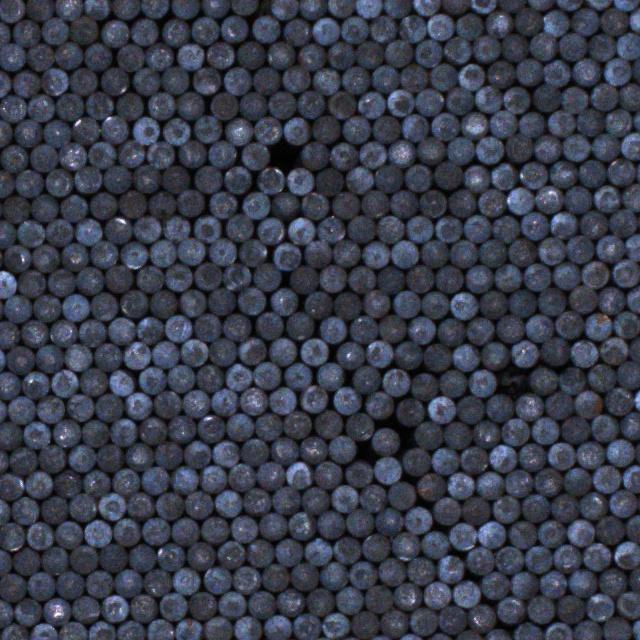tool: (255, 460, 284, 490), (288, 265, 317, 294), (422, 342, 451, 371), (14, 169, 43, 197), (345, 165, 373, 194), (534, 184, 562, 213), (578, 210, 606, 239), (434, 264, 463, 292), (495, 314, 524, 342), (485, 393, 513, 422), (402, 447, 430, 475), (63, 343, 91, 371), (14, 598, 42, 626), (12, 19, 40, 47), (599, 8, 627, 36), (355, 40, 383, 68), (558, 32, 586, 60), (571, 58, 599, 86), (296, 90, 324, 118), (327, 91, 355, 119), (414, 88, 442, 116), (42, 120, 70, 148), (162, 117, 190, 145), (224, 117, 252, 145), (311, 115, 339, 143), (342, 115, 370, 143), (430, 112, 458, 140), (576, 108, 604, 136), (58, 142, 86, 170), (87, 141, 115, 169), (44, 168, 72, 196), (240, 142, 268, 170), (416, 136, 444, 164), (532, 134, 560, 162), (132, 164, 160, 192), (477, 188, 505, 216), (16, 219, 44, 247), (44, 218, 72, 246), (193, 215, 221, 243), (462, 214, 490, 242), (478, 238, 506, 266), (508, 238, 536, 266), (595, 234, 623, 262), (580, 260, 608, 288), (405, 264, 433, 292), (318, 264, 346, 292), (164, 314, 192, 342), (222, 313, 250, 341), (568, 285, 596, 313), (208, 337, 236, 365), (268, 337, 296, 365), (480, 341, 508, 369), (529, 366, 557, 394), (410, 372, 438, 400), (427, 395, 455, 423), (456, 396, 484, 424), (590, 413, 618, 441), (138, 366, 166, 394), (238, 387, 266, 415), (210, 388, 238, 416), (7, 396, 35, 424), (443, 421, 471, 449), (240, 438, 268, 466), (140, 466, 168, 494), (198, 465, 226, 493), (608, 489, 636, 517), (552, 544, 580, 572), (582, 542, 610, 570), (184, 490, 212, 518), (316, 510, 344, 538), (538, 570, 566, 598), (84, 42, 111, 71), (145, 42, 172, 71), (223, 66, 250, 95), (85, 90, 112, 119), (253, 115, 280, 144), (271, 192, 298, 221), (390, 189, 417, 218), (609, 208, 636, 237), (75, 266, 102, 295), (193, 312, 220, 341), (437, 317, 464, 346), (604, 387, 633, 414), (182, 389, 209, 418), (95, 393, 122, 422), (41, 495, 68, 524), (228, 462, 255, 491), (129, 593, 156, 622), (217, 591, 246, 618), (480, 571, 509, 598), (392, 582, 421, 609), (613, 541, 640, 569), (35, 344, 62, 372), (94, 343, 121, 371), (79, 368, 107, 395), (51, 369, 78, 397), (27, 572, 54, 600), (26, 43, 53, 71), (54, 42, 82, 69), (570, 8, 598, 35), (444, 36, 471, 64), (472, 34, 499, 62), (500, 34, 527, 62), (529, 32, 556, 60), (282, 65, 310, 92), (400, 64, 427, 92), (603, 58, 631, 85), (115, 92, 142, 120), (147, 91, 174, 119), (71, 116, 98, 144), (282, 116, 309, 144), (489, 110, 516, 138), (604, 108, 631, 136), (208, 140, 235, 168), (300, 141, 327, 169), (330, 142, 358, 169), (358, 141, 386, 168), (161, 165, 189, 192), (315, 167, 342, 195), (375, 164, 402, 192), (176, 188, 203, 216), (434, 161, 461, 189), (549, 160, 576, 188), (606, 158, 634, 185), (361, 189, 388, 217), (563, 186, 591, 213), (405, 214, 432, 242), (31, 244, 58, 272), (176, 237, 204, 264), (273, 242, 300, 270), (222, 263, 249, 291), (253, 262, 280, 290), (390, 240, 418, 267), (449, 239, 476, 267), (537, 236, 564, 264), (612, 259, 639, 287), (552, 262, 579, 290), (523, 263, 550, 291), (494, 263, 521, 291), (90, 292, 117, 320), (120, 289, 147, 317), (107, 317, 135, 344), (362, 289, 389, 317), (349, 314, 376, 342), (407, 316, 435, 343), (538, 287, 565, 315), (524, 314, 552, 341), (597, 286, 624, 314), (584, 312, 611, 340), (180, 338, 208, 365), (300, 338, 328, 365), (336, 341, 363, 369), (394, 341, 422, 368), (558, 366, 585, 394), (600, 336, 627, 364), (439, 369, 466, 397), (382, 368, 409, 396), (167, 364, 194, 392), (252, 362, 280, 389), (352, 365, 379, 393), (334, 386, 361, 414), (364, 391, 392, 418), (345, 412, 373, 439), (315, 410, 342, 438), (36, 394, 63, 422), (66, 393, 93, 421), (124, 391, 151, 419), (414, 421, 441, 449), (472, 420, 499, 448), (68, 444, 95, 472), (124, 442, 152, 469), (170, 466, 197, 494), (328, 435, 355, 463), (314, 461, 341, 489), (358, 484, 386, 511), (417, 474, 445, 501), (504, 469, 532, 496), (563, 467, 590, 495), (592, 465, 620, 492), (477, 520, 505, 547), (537, 520, 565, 547), (404, 506, 432, 533), (26, 521, 53, 549), (85, 569, 112, 597), (143, 569, 171, 596), (203, 566, 230, 594), (101, 594, 128, 622), (159, 592, 186, 620), (188, 592, 216, 619), (436, 554, 463, 582), (422, 581, 450, 608), (568, 570, 596, 597), (509, 571, 537, 598), (496, 596, 524, 623), (467, 604, 494, 632), (438, 604, 465, 632), (117, 43, 143, 72), (100, 115, 126, 144), (388, 139, 414, 168), (505, 133, 531, 162), (110, 417, 136, 446), (112, 468, 138, 497), (374, 456, 401, 483), (556, 595, 583, 622), (21, 371, 48, 398), (161, 19, 188, 46), (176, 43, 203, 70), (205, 41, 232, 68), (340, 16, 367, 43), (398, 15, 425, 42), (192, 66, 219, 93), (341, 66, 368, 93), (175, 91, 202, 118), (357, 90, 384, 117), (474, 85, 501, 112), (560, 86, 587, 113), (590, 83, 617, 110), (14, 119, 41, 146), (30, 144, 57, 171), (103, 165, 130, 192), (146, 141, 173, 168), (178, 140, 205, 167), (446, 137, 473, 164), (475, 136, 502, 163), (562, 134, 589, 161), (223, 166, 250, 193), (256, 166, 283, 193), (29, 193, 56, 220), (209, 191, 236, 218), (506, 186, 533, 213), (74, 218, 101, 245), (133, 216, 160, 243), (162, 215, 189, 242), (287, 217, 314, 244), (347, 215, 374, 242), (376, 215, 403, 242), (434, 215, 461, 242), (492, 216, 519, 243), (520, 212, 547, 239), (105, 265, 132, 292), (361, 241, 388, 268), (420, 239, 447, 266), (32, 294, 59, 321), (61, 293, 88, 320), (78, 319, 105, 346), (178, 289, 205, 316), (255, 312, 282, 339), (449, 292, 476, 319), (466, 317, 493, 344), (555, 310, 582, 337), (238, 337, 265, 364), (452, 344, 479, 371), (570, 340, 597, 367), (468, 369, 495, 396), (531, 416, 558, 443), (561, 416, 588, 443), (153, 391, 180, 418), (396, 398, 423, 425), (282, 411, 309, 438), (168, 415, 195, 442), (225, 413, 252, 440), (285, 461, 312, 488), (460, 446, 487, 473), (446, 472, 473, 499), (606, 439, 633, 466), (551, 494, 578, 521), (522, 494, 549, 521), (448, 522, 475, 549), (567, 519, 594, 546), (68, 493, 95, 520), (141, 517, 168, 544), (157, 543, 184, 570), (349, 561, 376, 588), (276, 588, 303, 615), (526, 595, 553, 622), (350, 611, 377, 638), (586, 593, 612, 621), (6, 346, 32, 374), (101, 20, 127, 48), (515, 7, 541, 35), (267, 41, 293, 69), (327, 41, 353, 69), (384, 39, 410, 67), (414, 39, 440, 67), (588, 34, 616, 60), (41, 67, 67, 95), (27, 93, 53, 121), (56, 92, 82, 120), (252, 66, 278, 94), (210, 92, 236, 120), (238, 92, 266, 118), (533, 83, 559, 111), (132, 116, 158, 144), (194, 114, 220, 142), (546, 110, 574, 136), (1, 144, 27, 172), (117, 140, 143, 168), (591, 134, 619, 160), (194, 165, 220, 193), (405, 164, 431, 192), (60, 193, 86, 221), (578, 159, 604, 187), (418, 189, 444, 217), (592, 184, 618, 212), (316, 216, 344, 242), (550, 211, 576, 239), (3, 244, 29, 272), (47, 268, 73, 296), (61, 243, 87, 271), (90, 240, 116, 268), (120, 241, 146, 269), (208, 237, 234, 265), (466, 264, 492, 292), (150, 289, 176, 317), (136, 317, 164, 343), (207, 288, 235, 314), (238, 286, 264, 314), (304, 291, 330, 319), (286, 311, 312, 339), (378, 314, 404, 342), (479, 290, 505, 318), (613, 310, 639, 338), (124, 341, 150, 369), (574, 390, 600, 418), (196, 364, 222, 392), (225, 363, 251, 391), (284, 362, 310, 390), (300, 384, 326, 412), (300, 436, 326, 464), (53, 419, 79, 447), (82, 419, 108, 447), (139, 416, 165, 444), (197, 414, 223, 442), (255, 412, 281, 440), (10, 446, 36, 474), (96, 443, 122, 471), (25, 470, 51, 498), (54, 470, 80, 498), (388, 481, 414, 509), (518, 443, 544, 471), (576, 442, 604, 468), (578, 492, 606, 518), (433, 496, 459, 524), (596, 516, 622, 544), (421, 530, 447, 558), (98, 492, 124, 520), (54, 520, 80, 548), (84, 519, 110, 547), (12, 547, 38, 575), (127, 545, 155, 571), (186, 542, 214, 568), (274, 538, 300, 566), (232, 566, 260, 592), (72, 595, 98, 623), (452, 580, 480, 606), (365, 585, 391, 613), (306, 588, 334, 614), (599, 568, 625, 596), (409, 607, 435, 635), (263, 614, 291, 640), (540, 338, 569, 363), (381, 609, 406, 638), (371, 429, 398, 455), (20, 320, 46, 347), (49, 320, 76, 346), (70, 16, 96, 43), (191, 17, 217, 44), (252, 15, 278, 42), (283, 18, 310, 44), (312, 17, 338, 44), (369, 15, 395, 42), (426, 13, 452, 40), (456, 13, 482, 40), (485, 10, 511, 37), (298, 43, 324, 70), (101, 67, 127, 94), (372, 65, 398, 92), (430, 63, 456, 90), (487, 61, 513, 88), (515, 59, 542, 85), (542, 60, 569, 86), (268, 91, 294, 118), (445, 87, 472, 113), (502, 86, 529, 112), (372, 116, 399, 142), (401, 114, 427, 141), (461, 112, 487, 139), (73, 166, 100, 192), (287, 167, 313, 194), (118, 190, 144, 217), (242, 192, 269, 218), (302, 192, 328, 219), (332, 191, 358, 218), (519, 162, 546, 188), (104, 216, 130, 243), (226, 214, 252, 241), (257, 217, 283, 244), (149, 239, 175, 266), (136, 265, 162, 292), (164, 264, 191, 290), (194, 262, 220, 289), (304, 240, 330, 267), (332, 239, 358, 266), (566, 235, 592, 262), (270, 288, 296, 315), (334, 292, 360, 319), (319, 316, 345, 343), (421, 292, 448, 318), (508, 290, 535, 316), (152, 341, 178, 368), (366, 340, 392, 367), (511, 340, 537, 367), (588, 364, 614, 391), (515, 393, 542, 419), (546, 392, 572, 419), (501, 418, 528, 444), (268, 388, 295, 414), (23, 421, 49, 448), (154, 442, 181, 468), (212, 440, 239, 466), (489, 444, 515, 471), (492, 495, 518, 522), (462, 497, 488, 524), (524, 546, 551, 572), (126, 492, 153, 518), (156, 492, 182, 519), (214, 490, 241, 516), (171, 518, 198, 544), (70, 545, 96, 572), (100, 544, 126, 571), (114, 569, 140, 596), (172, 567, 199, 593), (246, 539, 272, 566), (392, 533, 418, 560), (261, 564, 288, 590), (292, 563, 318, 590), (321, 562, 347, 589), (248, 591, 274, 618), (378, 558, 404, 585), (407, 557, 433, 584), (496, 546, 522, 573), (336, 586, 362, 613), (294, 613, 320, 640), (0, 573, 25, 601), (387, 88, 412, 116), (5, 294, 30, 322), (317, 362, 342, 390), (83, 468, 108, 496), (113, 517, 138, 545), (41, 546, 66, 574), (300, 487, 328, 512), (467, 546, 492, 574), (204, 615, 232, 640), (131, 19, 157, 45), (542, 10, 568, 36), (237, 41, 263, 67), (70, 68, 96, 94), (133, 68, 159, 94), (161, 67, 187, 93), (518, 111, 544, 137), (2, 196, 28, 222), (90, 192, 116, 218), (148, 192, 174, 218), (18, 270, 44, 296), (240, 239, 266, 265), (348, 266, 374, 292), (271, 438, 297, 464), (476, 472, 502, 498), (535, 469, 561, 495), (508, 521, 534, 547), (202, 517, 228, 543), (217, 541, 243, 567), (288, 512, 314, 538), (375, 508, 401, 534), (304, 538, 330, 564), (333, 537, 359, 563), (362, 534, 388, 560), (322, 612, 348, 638), (42, 17, 67, 44), (221, 15, 246, 42), (0, 95, 25, 122), (458, 63, 483, 90), (463, 165, 488, 192), (491, 162, 516, 189), (449, 189, 474, 216), (377, 266, 402, 293), (394, 290, 419, 317), (108, 368, 133, 395), (39, 444, 64, 471), (184, 441, 209, 468), (432, 447, 457, 474), (231, 515, 256, 542), (57, 571, 82, 598), (331, 484, 356, 511), (602, 616, 630, 640), (0, 42, 24, 70), (13, 496, 37, 524), (242, 488, 270, 512), (313, 68, 338, 94), (346, 461, 372, 486), (548, 443, 573, 469), (272, 487, 298, 512), (260, 512, 285, 538), (616, 32, 640, 59), (13, 72, 40, 96), (616, 361, 640, 388), (233, 616, 260, 640), (617, 590, 640, 618), (0, 523, 23, 551), (45, 599, 69, 625), (346, 509, 370, 534), (573, 619, 601, 640), (0, 421, 21, 449), (618, 83, 640, 109), (0, 472, 22, 498), (619, 412, 640, 439), (270, 0, 298, 20), (620, 132, 640, 160), (116, 620, 144, 640), (174, 619, 200, 640), (54, 0, 82, 19), (0, 371, 19, 399), (59, 621, 87, 640), (88, 621, 115, 640), (544, 622, 572, 640), (140, 0, 168, 18), (170, 0, 198, 18), (622, 184, 640, 212), (622, 464, 640, 492), (26, 0, 52, 19), (84, 0, 110, 19), (299, 0, 325, 19), (112, 0, 139, 18), (0, 0, 23, 21), (148, 620, 172, 640), (30, 622, 56, 640), (513, 623, 540, 640), (0, 322, 17, 348), (355, 0, 381, 17), (383, 0, 409, 17), (1, 624, 28, 640), (624, 233, 640, 260), (328, 0, 353, 17), (202, 0, 228, 16), (0, 270, 15, 297), (412, 0, 440, 14), (0, 220, 14, 248), (626, 514, 640, 542), (230, 0, 256, 15), (442, 0, 468, 15), (496, 0, 524, 13), (626, 286, 640, 312), (0, 170, 13, 197), (470, 0, 496, 13), (0, 600, 12, 628), (0, 120, 11, 148), (554, 0, 582, 10), (612, 0, 640, 10), (0, 548, 10, 576), (629, 337, 640, 362)
tool_b: (493, 365, 531, 395)
void: (266, 143, 300, 168)
